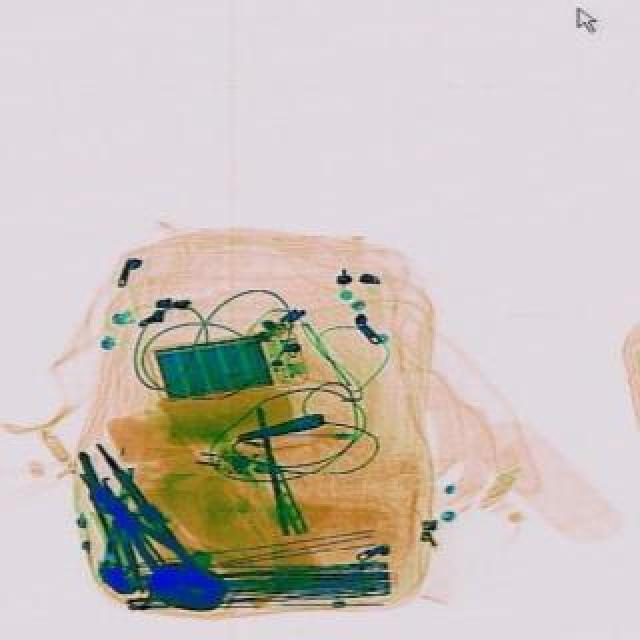wrench: (56, 456, 202, 602)
